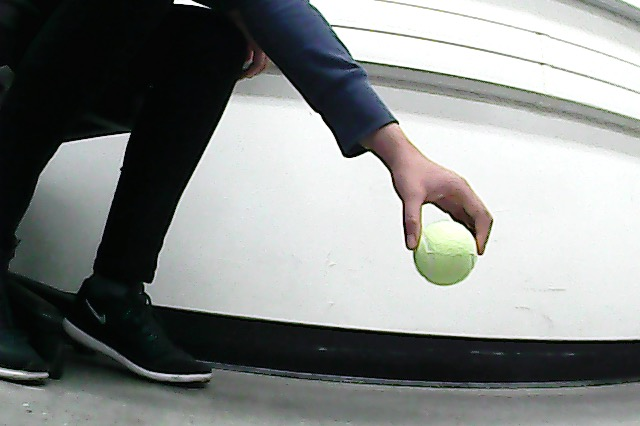ball: (414, 221, 477, 286)
